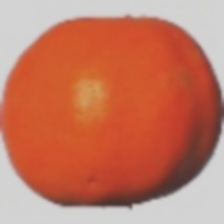tangerine: (44, 5, 202, 201)
